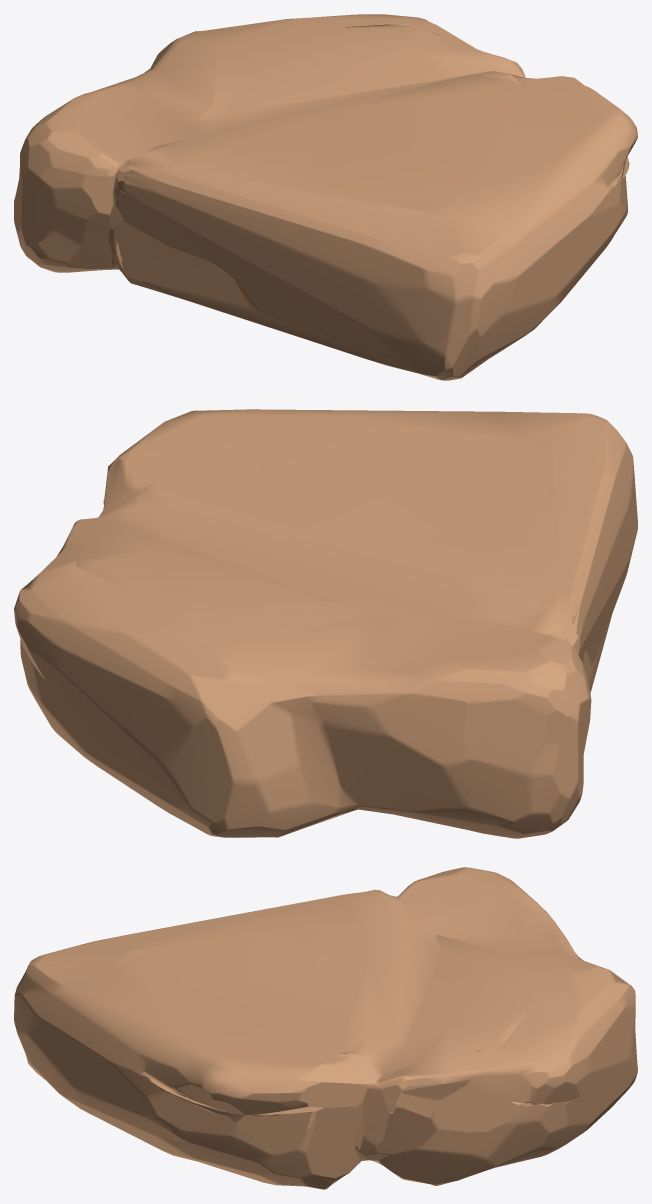
The picture shows the model from 3 angles, top to bottom: view 1: azimuth 30°, elevation 25°; view 2: azimuth 150°, elevation 25°; view 3: azimuth 270°, elevation 25°; orthographic projection. The views are drawn at different scales.
Visible parts, largest first — view 1: Mesh_77_LOD0; view 2: Mesh_77_LOD0; view 3: Mesh_77_LOD0.
Part boxes in pixels (box(x1,y1,x2,y2)): Mesh_77_LOD0: box(14, 14, 637, 380); Mesh_77_LOD0: box(14, 409, 637, 838); Mesh_77_LOD0: box(14, 867, 637, 1189).
Size of what is drawn, in the model's own units: 1335 by 432 by 1553.
